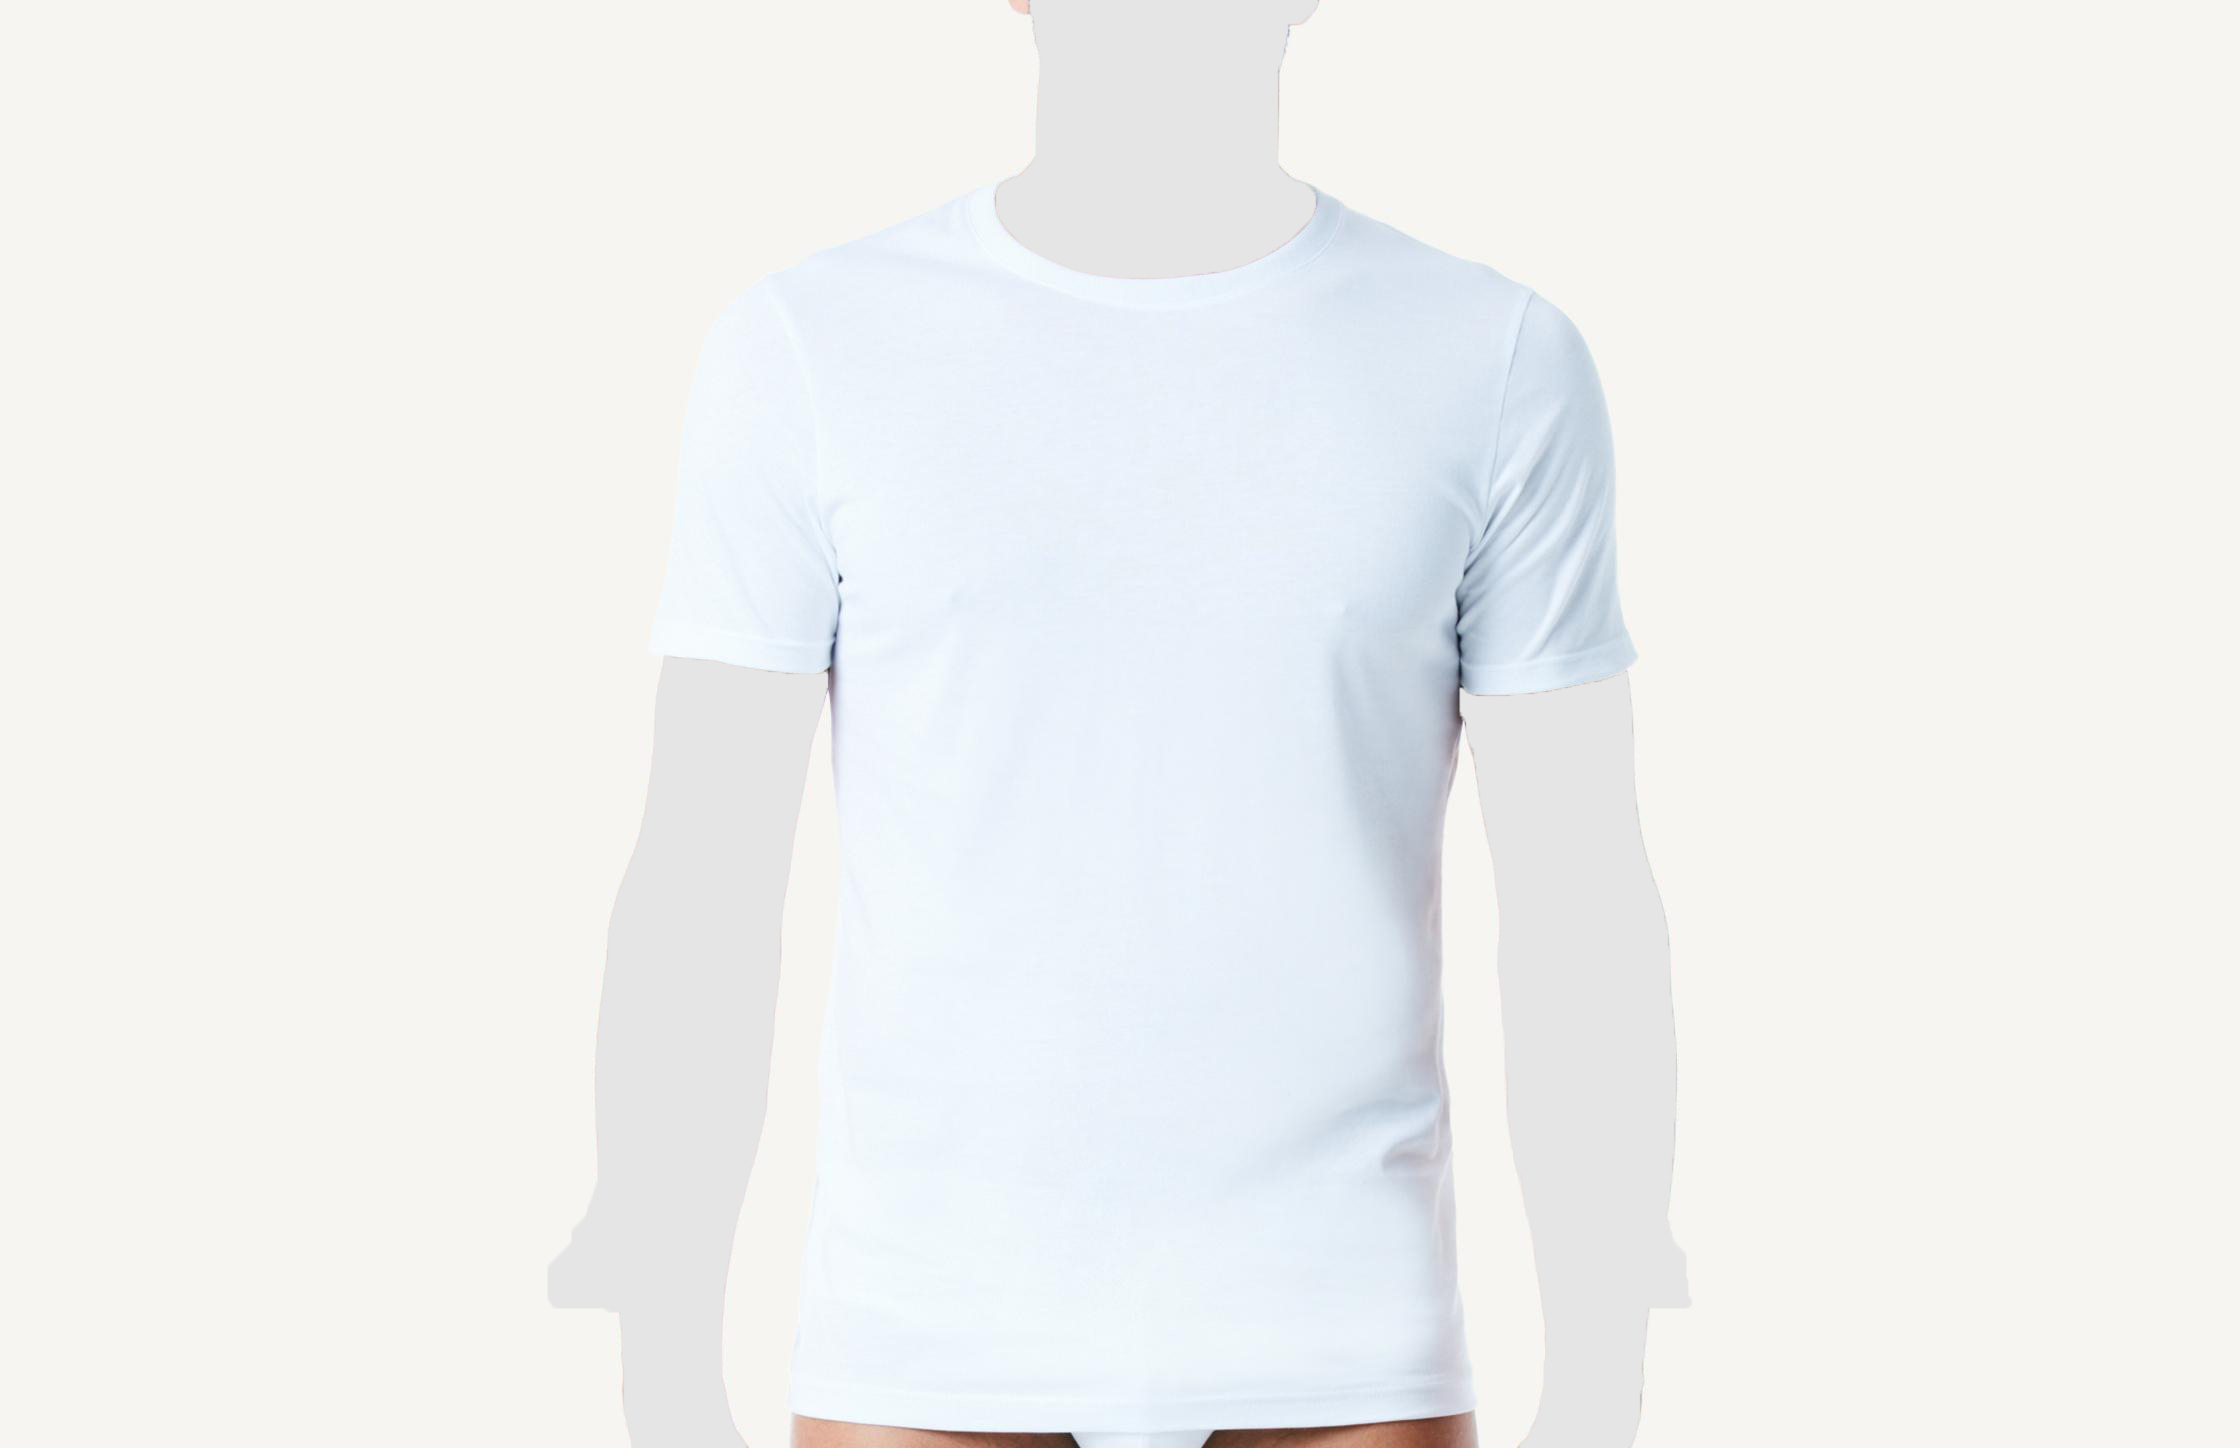teeshirt: (620, 170, 1642, 1448)
